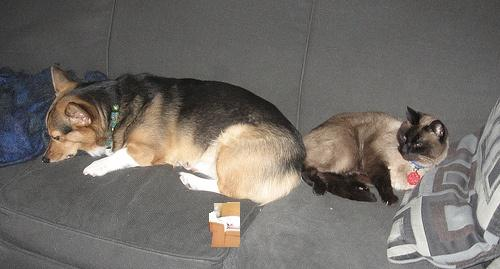tampered: (210, 203, 240, 247)
